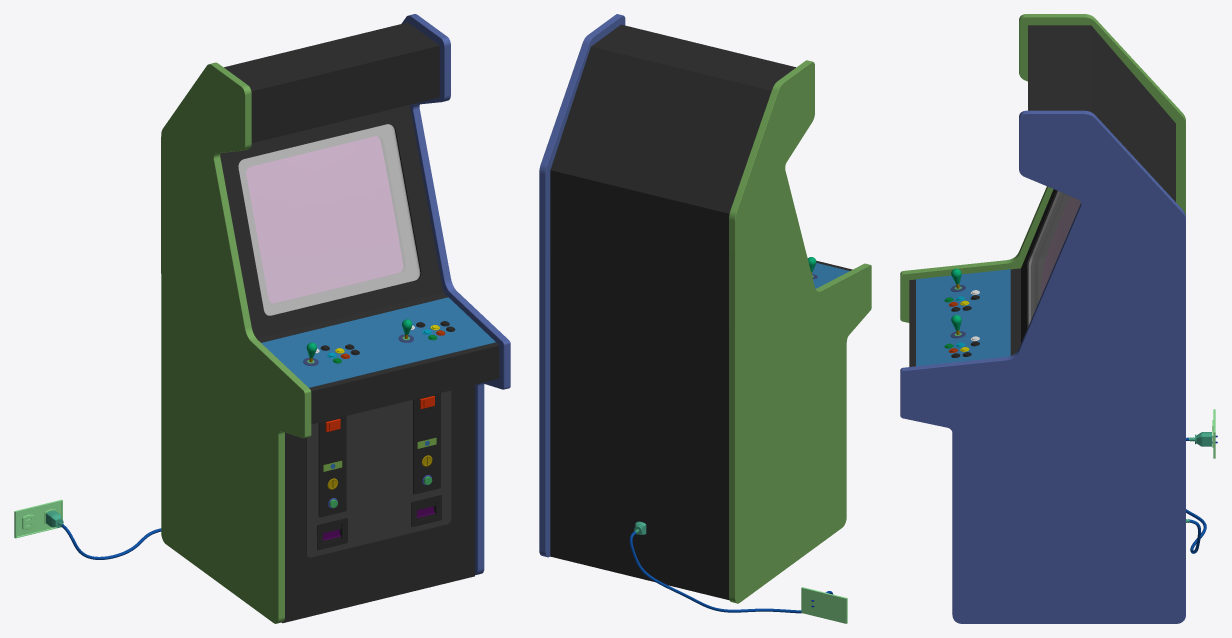
File: arcade_machine.fbx
3 views of the same model, side by side, from view 1: azimuth 30°, elevation 25°; view 2: azimuth 150°, elevation 25°; view 3: azimuth 270°, elevation 25° (orthographic). The views are drawn at different scales.
Parts seen in each view (by area): view 1: Body, Side_1, Glass, tvscreen, Cover_front, Cover_controls, Side_2, polySurface59 (×2), polySurface88; view 2: Body, Side_1, Side_2, polySurface88, polySurface276, Cover_controls; view 3: Side_2, Body, Cover_controls, Side_1, Glass, tvscreen.
Boxes of the visible parts, x1,y1,x2,y2 form: Body: (220,22,499,623); Side_1: (161,62,311,623); Glass: (238,124,420,315); tvscreen: (247,136,402,302); Cover_front: (306,390,451,557); Cover_controls: (261,297,495,387); Side_2: (401,14,510,575); polySurface59 (×2): (318,393,440,517); polySurface88: (14,499,62,538); Body: (550,24,852,600); Side_1: (729,60,871,603); Side_2: (539,14,625,557); polySurface88: (801,587,847,623); polySurface276: (629,531,833,613); Cover_controls: (812,263,849,288); Side_2: (900,110,1185,623); Body: (909,25,1175,366); Cover_controls: (916,269,1010,366); Side_1: (900,14,1185,322); Glass: (1028,191,1080,324); tvscreen: (1042,196,1080,292).
Bounding box in the file's own units: 1.25 × 1.81 × 1.02.
